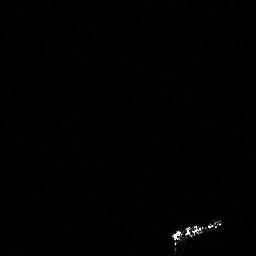ship: (169, 215, 225, 253)
